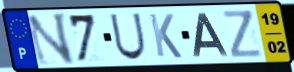7: (68, 13, 98, 64)
A: (192, 12, 231, 58)
K: (147, 12, 184, 60)
N: (24, 11, 76, 67)
U: (108, 12, 148, 62)
Z: (220, 8, 265, 59)
